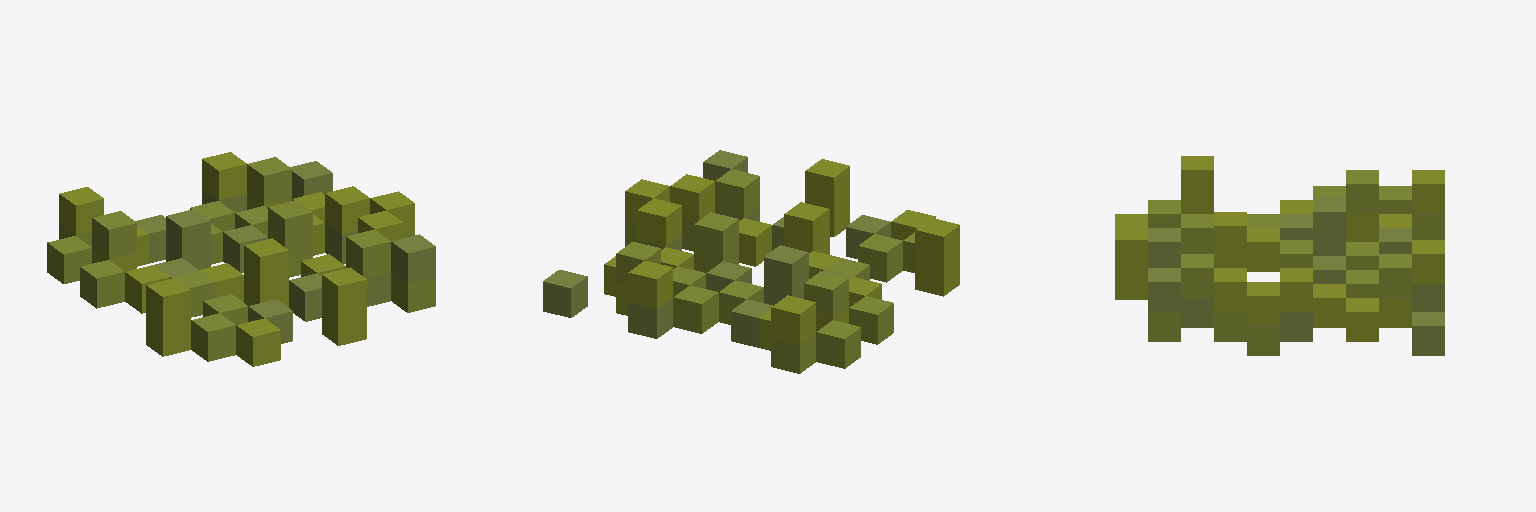
3 renders of one model, left to right at view 1: azimuth 30°, elevation 25°; view 2: azimuth 150°, elevation 25°; view 3: azimuth 270°, elevation 25°, orthographic.
Visible parts, largest first — view 1: object 1; view 2: object 1; view 3: object 1.
Boxes of the visible parts, box(x1,y1,x2,y2) form: object 1: box(47, 152, 435, 366); object 1: box(543, 150, 959, 373); object 1: box(1115, 156, 1444, 355).
Size of the model in its own units: 1 by 0.2 by 1.
1 materials, 1 textured.